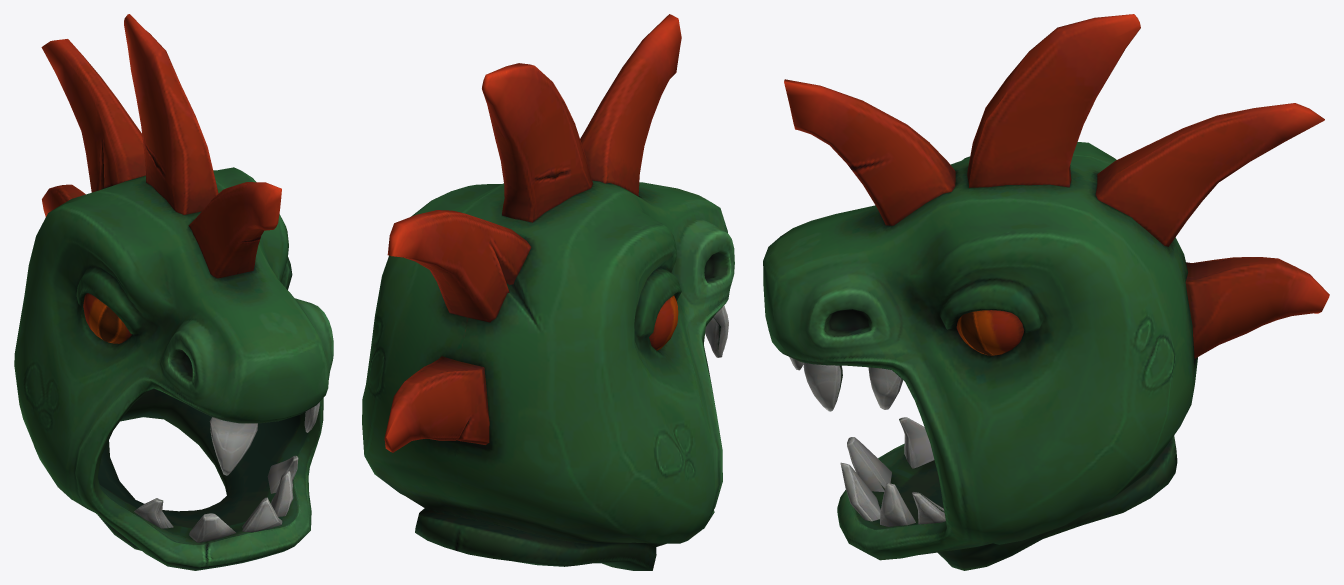
The model's file is conker_godjira_mask.fbx.
3 views of the same model, side by side, from view 1: azimuth 30°, elevation 25°; view 2: azimuth 150°, elevation 25°; view 3: azimuth 270°, elevation 25° (orthographic). The views are drawn at different scales.
Visible parts, largest first — view 1: node_id33; view 2: node_id33; view 3: node_id33.
Part boxes in pixels (left/top/right/bottom): node_id33: left=14, top=14, right=333, bottom=570; node_id33: left=362, top=14, right=734, bottom=570; node_id33: left=763, top=14, right=1329, bottom=570.
Size of the model in its own units: 0.2923 by 0.512 by 0.4942.
1 material, 1 textured.
